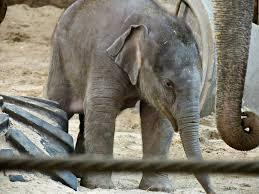elephant: (46, 0, 258, 158), (139, 172, 170, 191), (81, 172, 112, 187)
